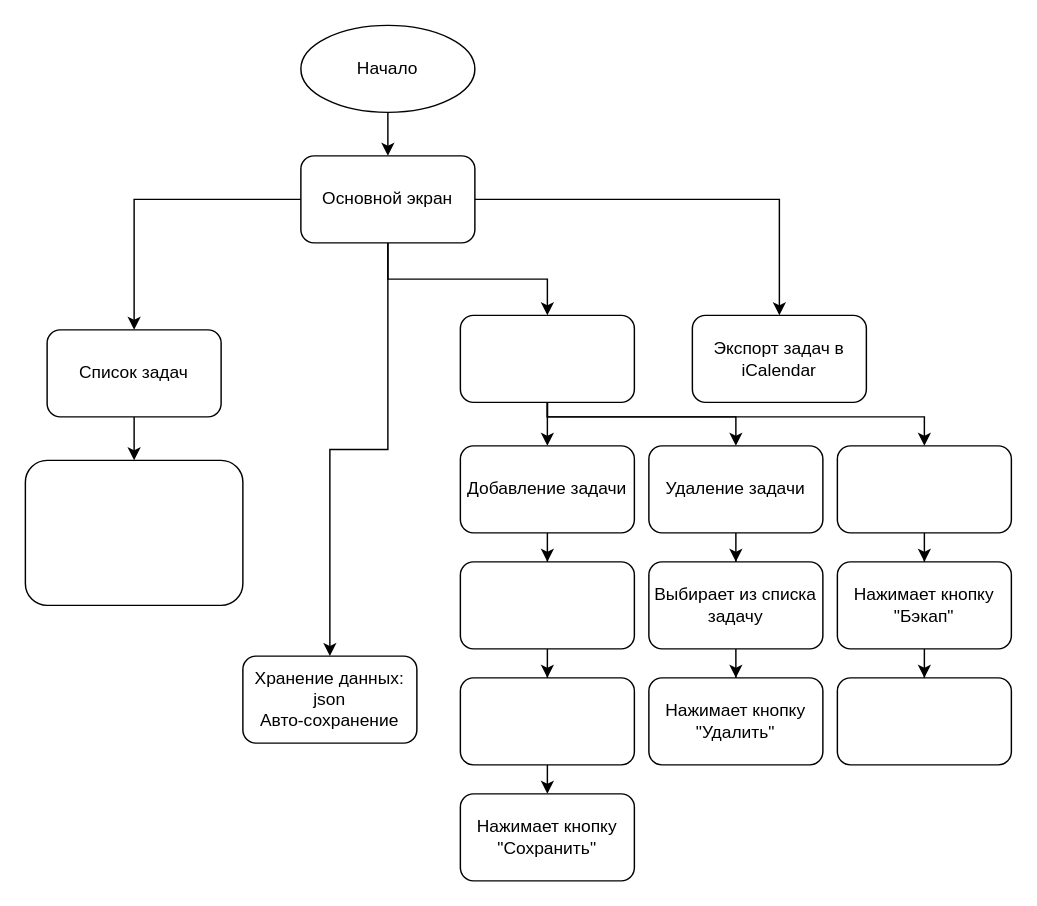
The diagram is 1037 pixels wide and 906 high, and some of its shapes have lost their labels. The shapes that lost their labels are listed below. From the top down, each one's centre as x and y in pixels, then its label:
(546,358): Кнопки для управления задачами
(923,488): Резервное копирование
(133,532): - Название - Статус - Отметка выполнения - Категория - Дата и время
(546,604): Нажимает кнопку "Добавить"
(546,720): Вводит название, описание, дату
(923,720): Выбирает папку для сохранения файла
